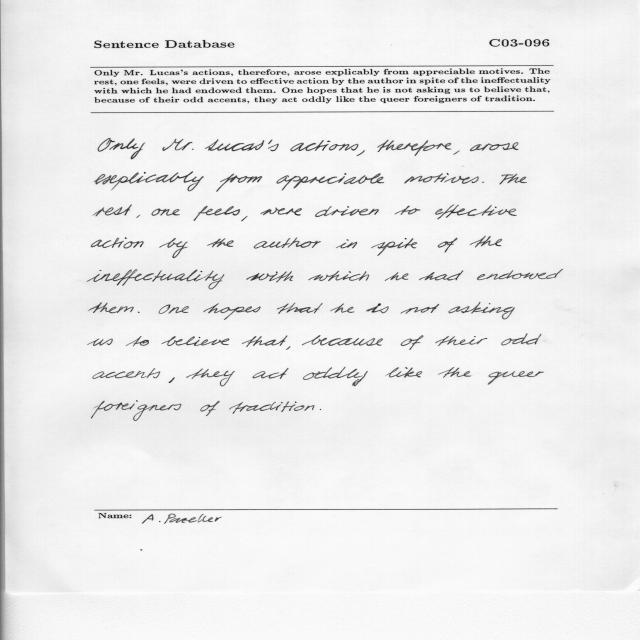word: (88, 270, 225, 290), (94, 172, 204, 191), (277, 173, 384, 191), (92, 400, 182, 421), (303, 367, 368, 386), (435, 205, 517, 220), (378, 140, 452, 156), (448, 302, 515, 319), (230, 401, 315, 414), (98, 138, 145, 159), (203, 303, 261, 320), (477, 269, 563, 280), (302, 335, 383, 346), (205, 139, 279, 151), (186, 369, 235, 387), (216, 174, 262, 192), (371, 238, 417, 256), (404, 173, 479, 184), (488, 371, 544, 385), (291, 140, 359, 151), (254, 238, 321, 249), (93, 368, 160, 379), (193, 206, 240, 221), (315, 206, 379, 217), (162, 336, 230, 346), (309, 271, 369, 281), (91, 238, 144, 249), (159, 238, 188, 258), (242, 335, 288, 347), (436, 336, 488, 346), (246, 272, 293, 283), (89, 303, 134, 314), (277, 303, 322, 314), (419, 270, 463, 281), (470, 142, 519, 151), (502, 334, 542, 345), (93, 205, 132, 216), (253, 368, 289, 379), (386, 367, 422, 378), (470, 236, 502, 248), (401, 304, 439, 314), (163, 139, 194, 151), (439, 367, 472, 378), (401, 335, 424, 350), (260, 208, 302, 216), (158, 304, 189, 314), (499, 174, 527, 185), (438, 238, 458, 253), (200, 401, 220, 416), (395, 205, 420, 215), (207, 239, 234, 248), (330, 303, 354, 313), (366, 303, 389, 313), (126, 336, 149, 346), (385, 272, 409, 281), (87, 338, 113, 346), (152, 209, 180, 216), (336, 240, 357, 249), (356, 150, 365, 156), (168, 378, 175, 384), (241, 216, 248, 221), (453, 151, 460, 155), (286, 346, 290, 350), (137, 215, 140, 218), (482, 181, 484, 183), (138, 312, 140, 313), (320, 409, 321, 410)
